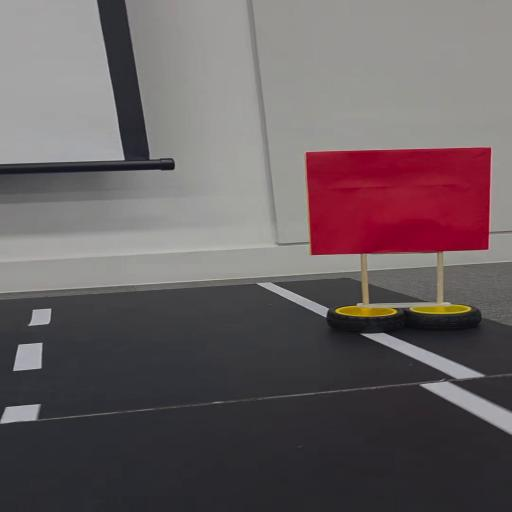Sign_A: (294, 144, 495, 338)
